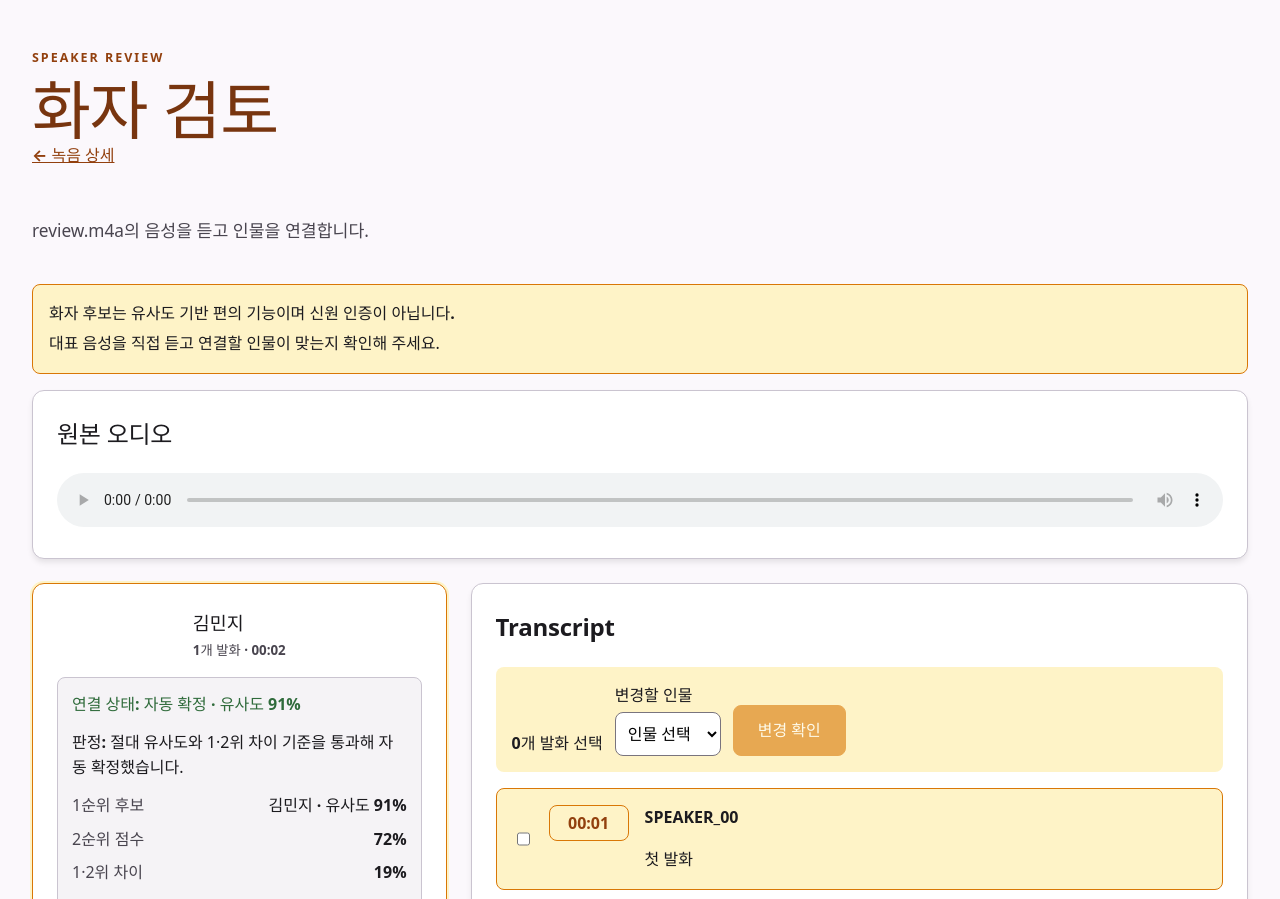
Scenario: draft 이탈을 경고하고 명시적 폐기 전에는 서버를 변경하지 않는다
Click the checkbox named "00:01 발화 선택" at (523, 839), box [517,808,530,870]
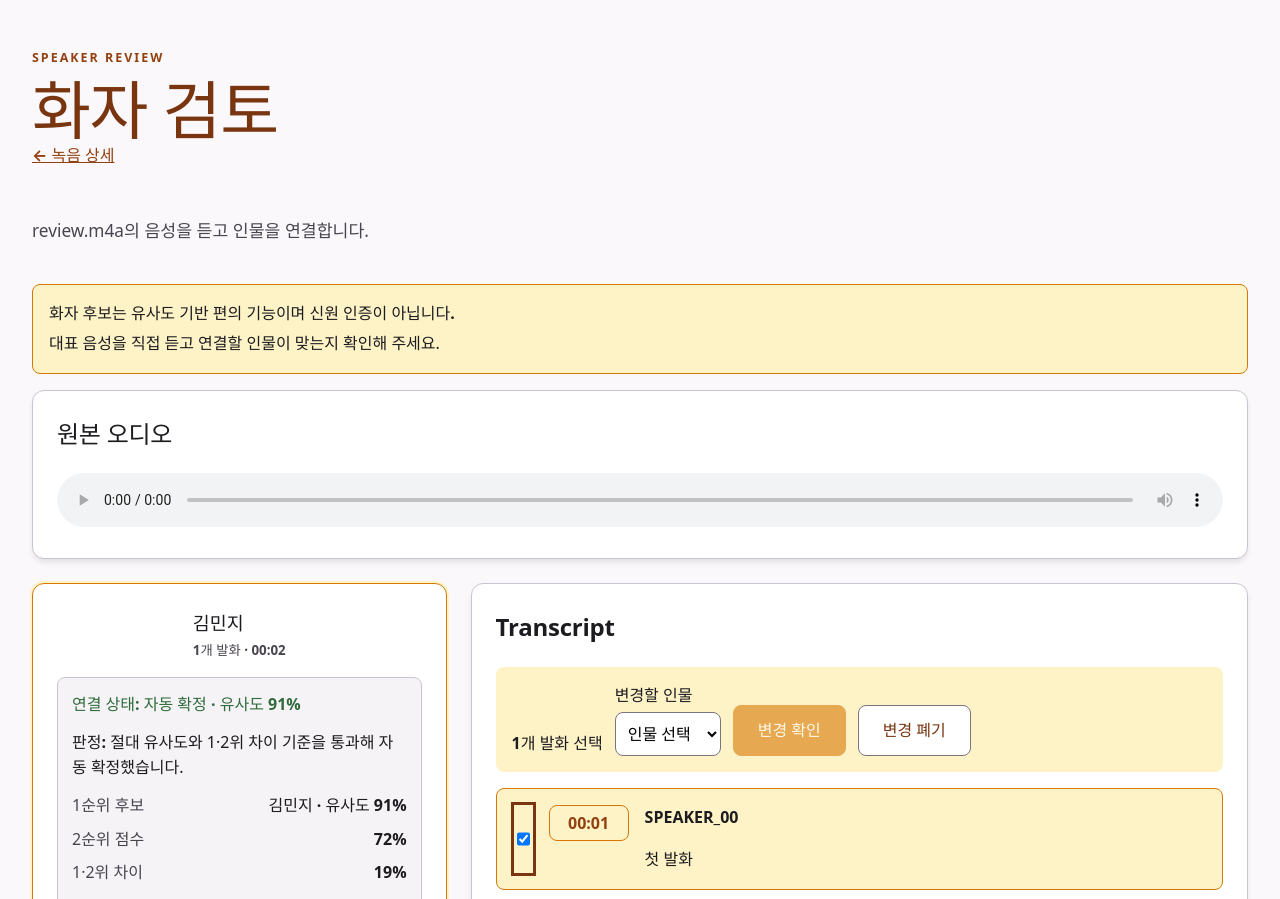
Click the link "← 녹음 상세" at (73, 156), box [32,143,114,169]
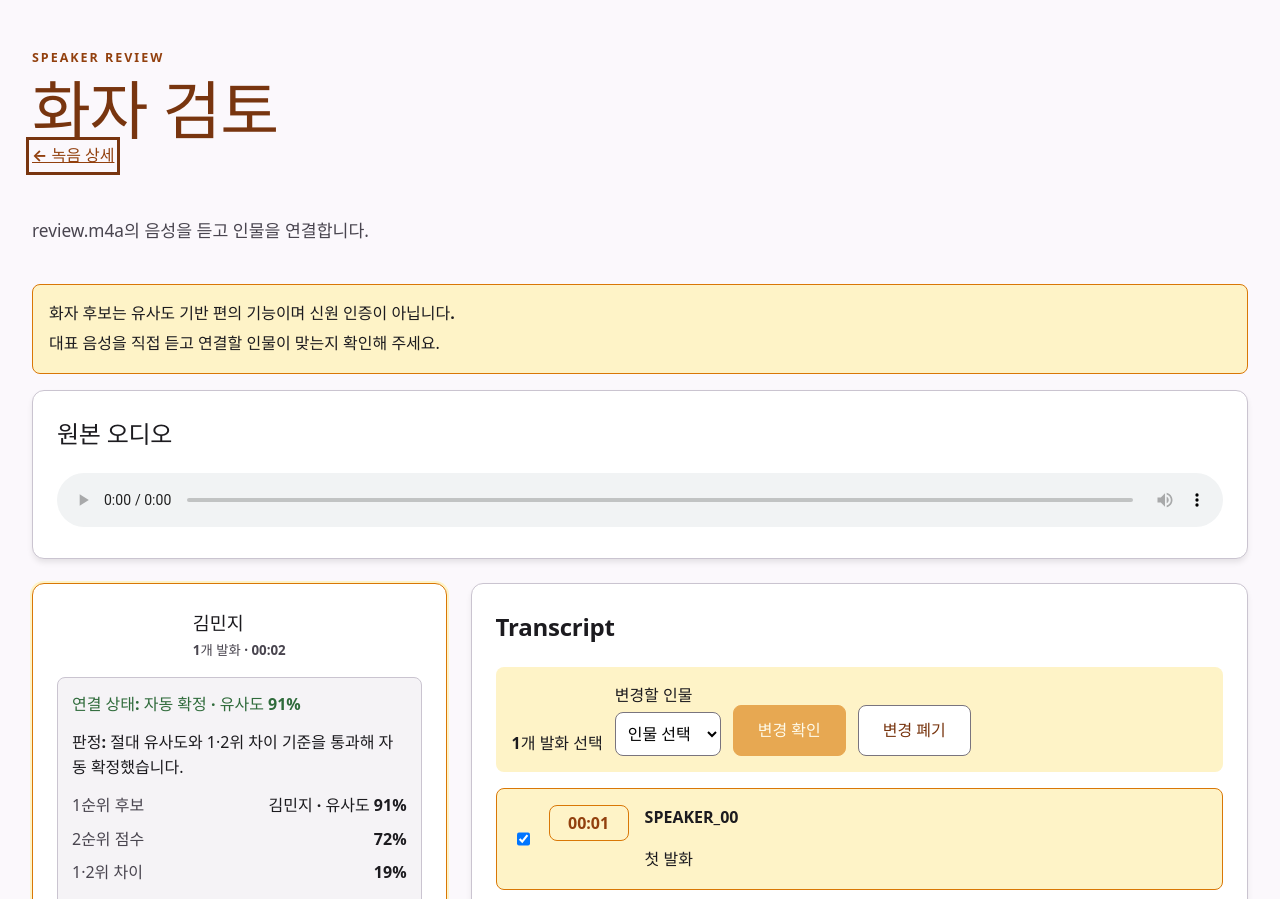
Click the button "변경 폐기" at (914, 731), box [858,705,971,756]
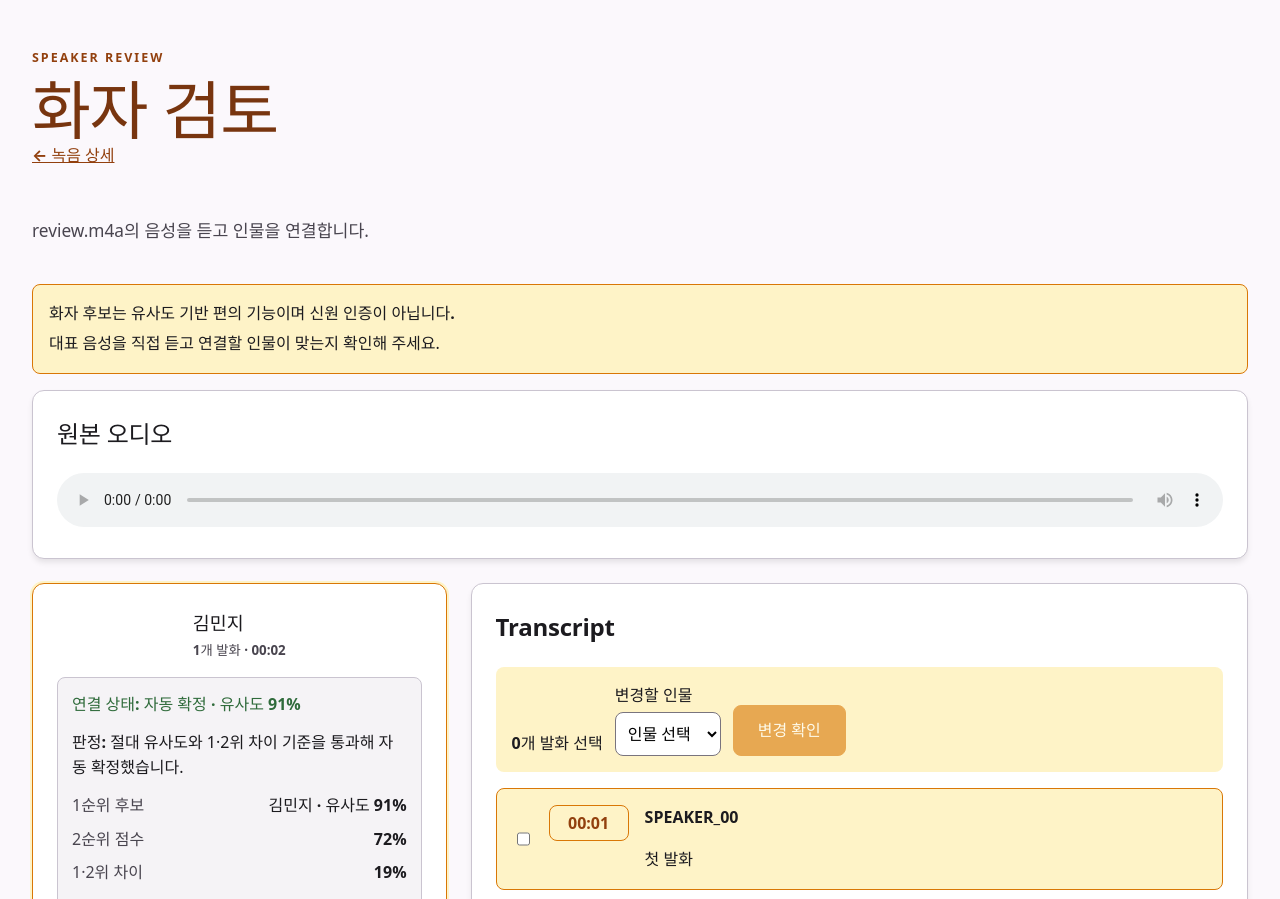
Check: the text "0개 발화 선택" is shown, box [512,731,603,756]
